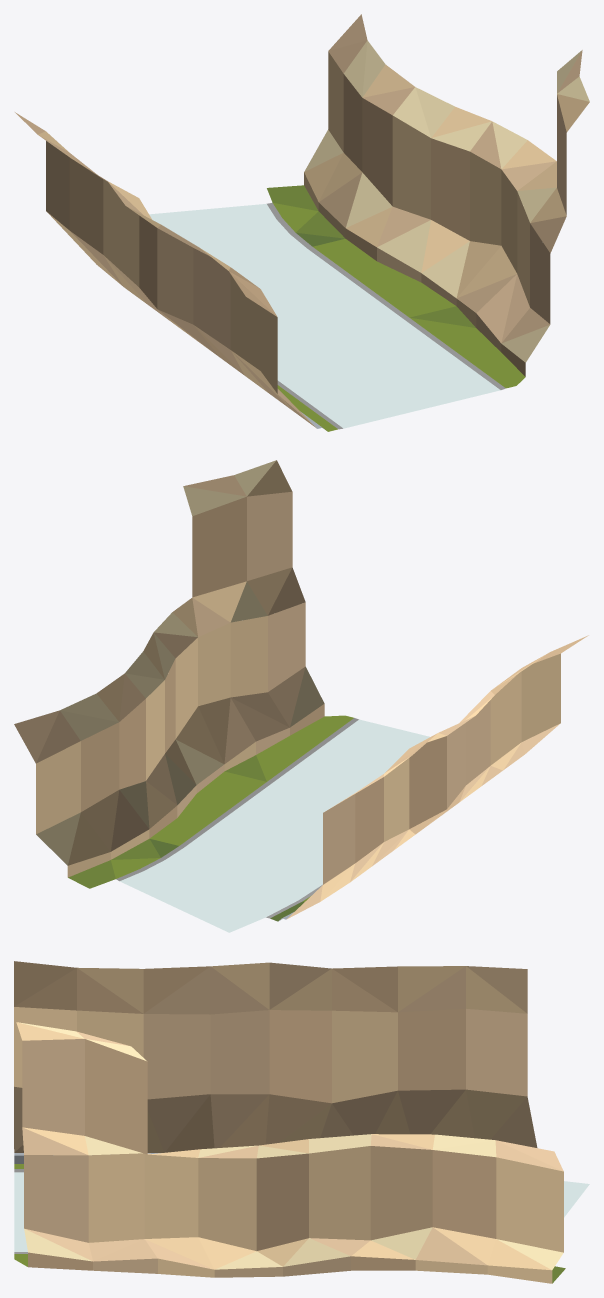
3 renders of one model, top to bottom at view 1: azimuth 30°, elevation 25°; view 2: azimuth 150°, elevation 25°; view 3: azimuth 270°, elevation 25°, orthographic. The views are drawn at different scales.
Visible parts, largest first — view 1: O24F1F; view 2: O24F1F; view 3: O24F1F.
Part boxes in pixels (x1,y1,x2,y2): O24F1F: [15, 14, 589, 431]; O24F1F: [14, 460, 588, 932]; O24F1F: [14, 961, 589, 1283].
Bounding box in the file's own units: 75.07 × 48.5 × 91.84.
